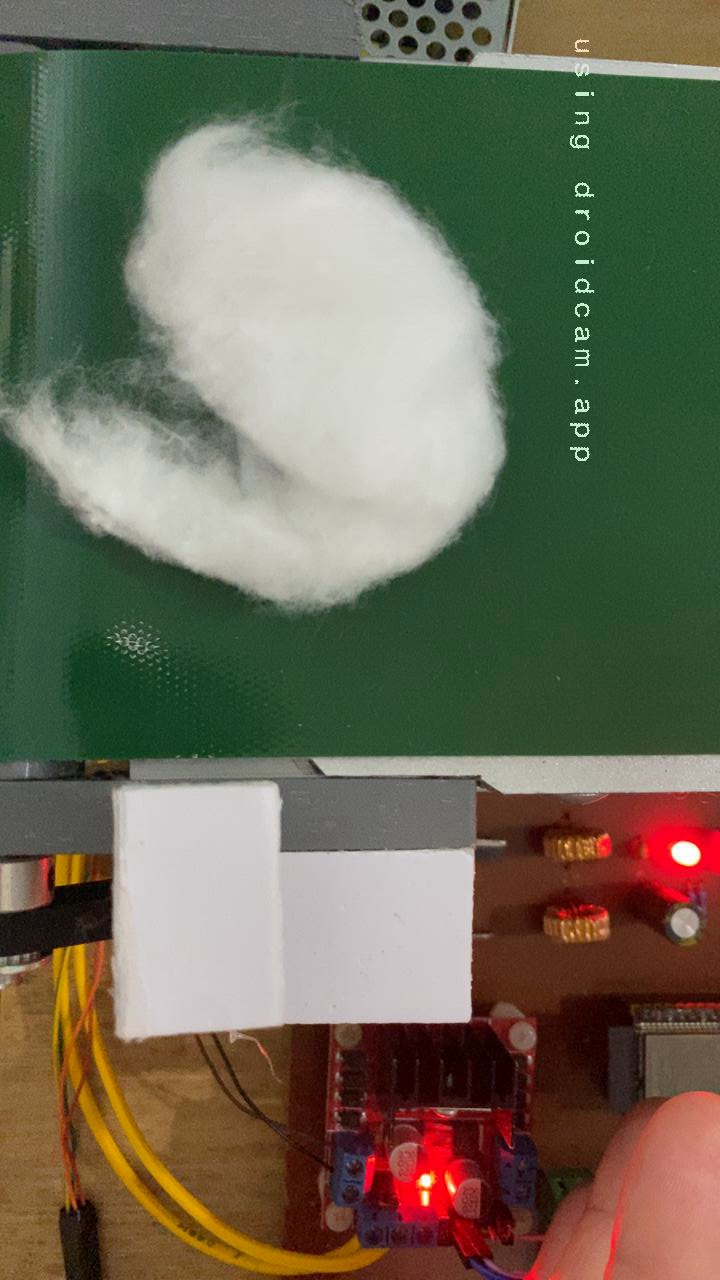cotton: (0, 114, 515, 618)
